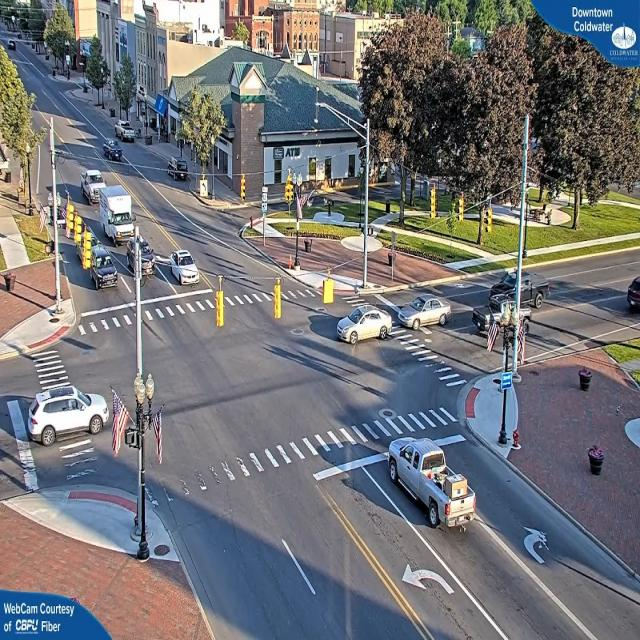car: (385, 439, 476, 537), (31, 384, 108, 444), (471, 300, 531, 342), (338, 304, 392, 343), (395, 293, 452, 328), (489, 272, 548, 304), (90, 246, 118, 292), (165, 250, 200, 286), (127, 235, 153, 282), (80, 169, 104, 204), (627, 274, 640, 315), (117, 124, 135, 143)
truck: (101, 185, 138, 245)
